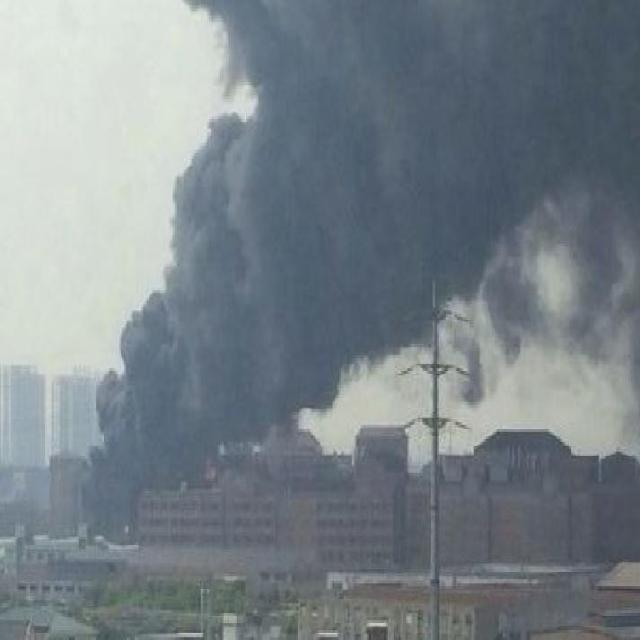Smoke: (89, 1, 640, 490)
